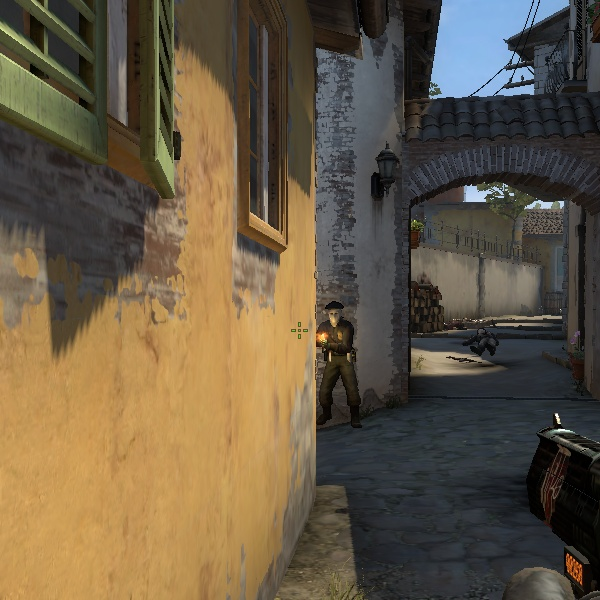t_body: (310, 303, 368, 431)
